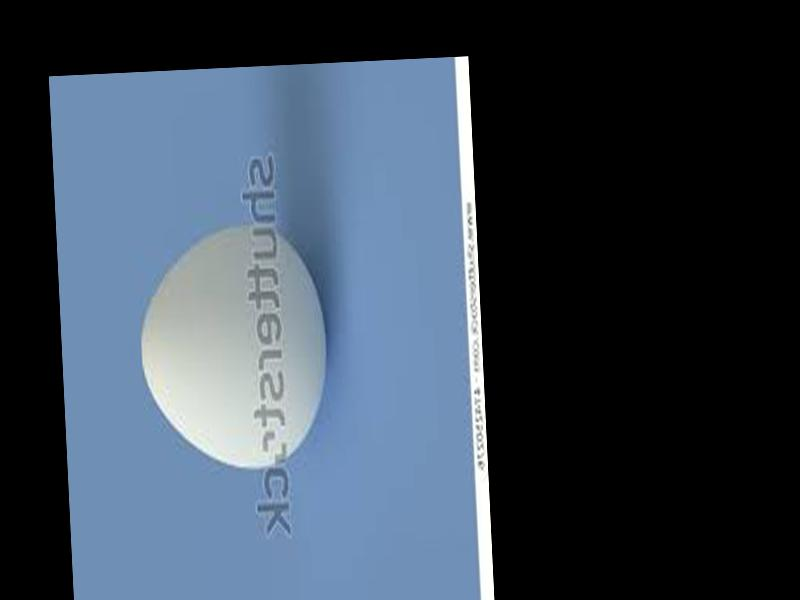Eggs: (136, 221, 333, 474)
